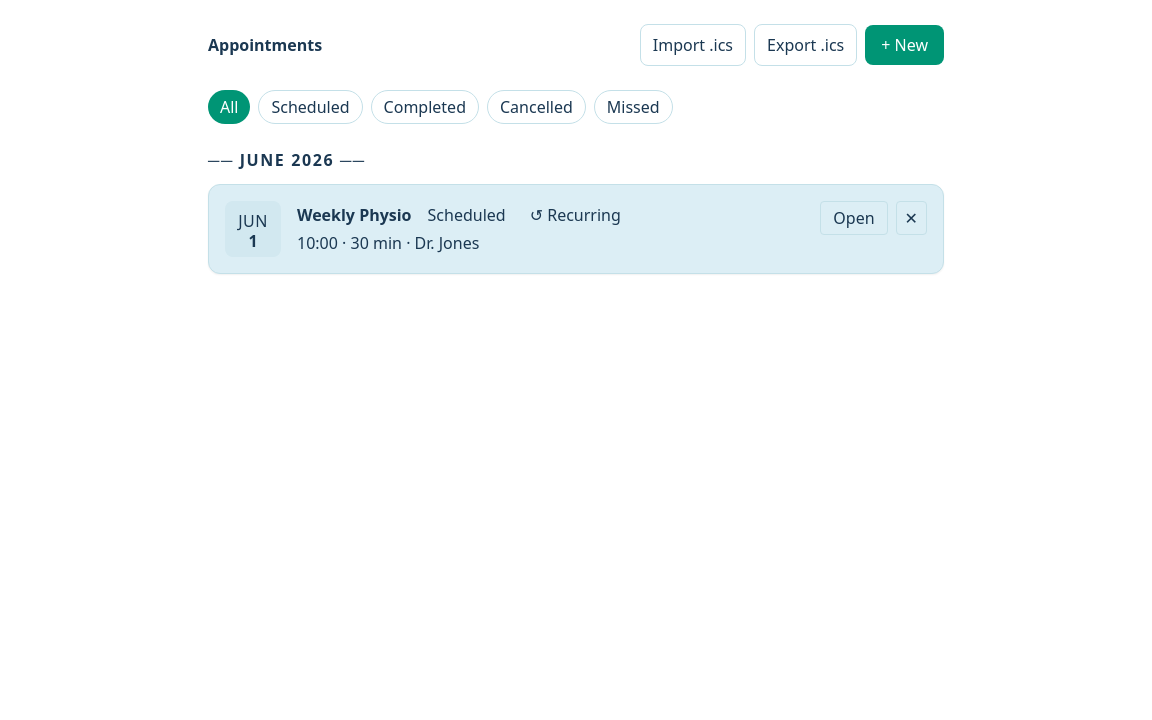
Delete series confirmation modal › shows the series delete modal when deleting a recurring appointment
Expected: the text "Weekly Physio" is shown, [297,203,412,227]
Click the button named "delete weekly physio": (911,218) [896,201,927,235]
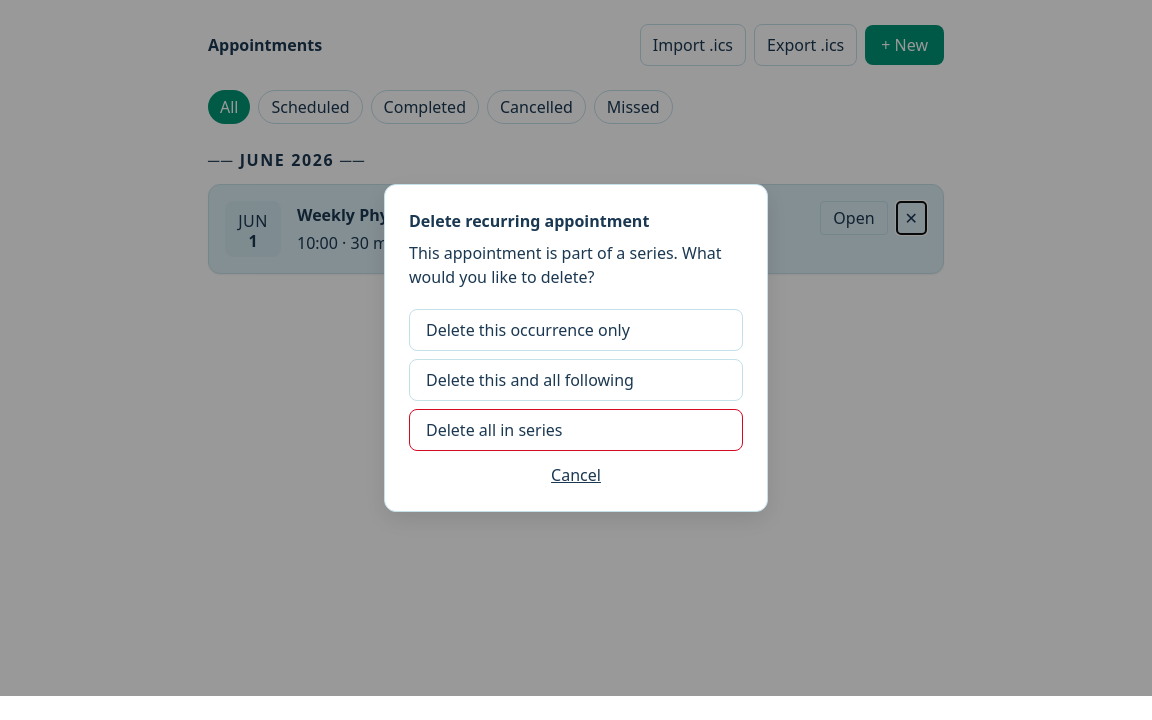
Expected: the heading "Delete recurring appointment" is shown, [409,210,649,232]
